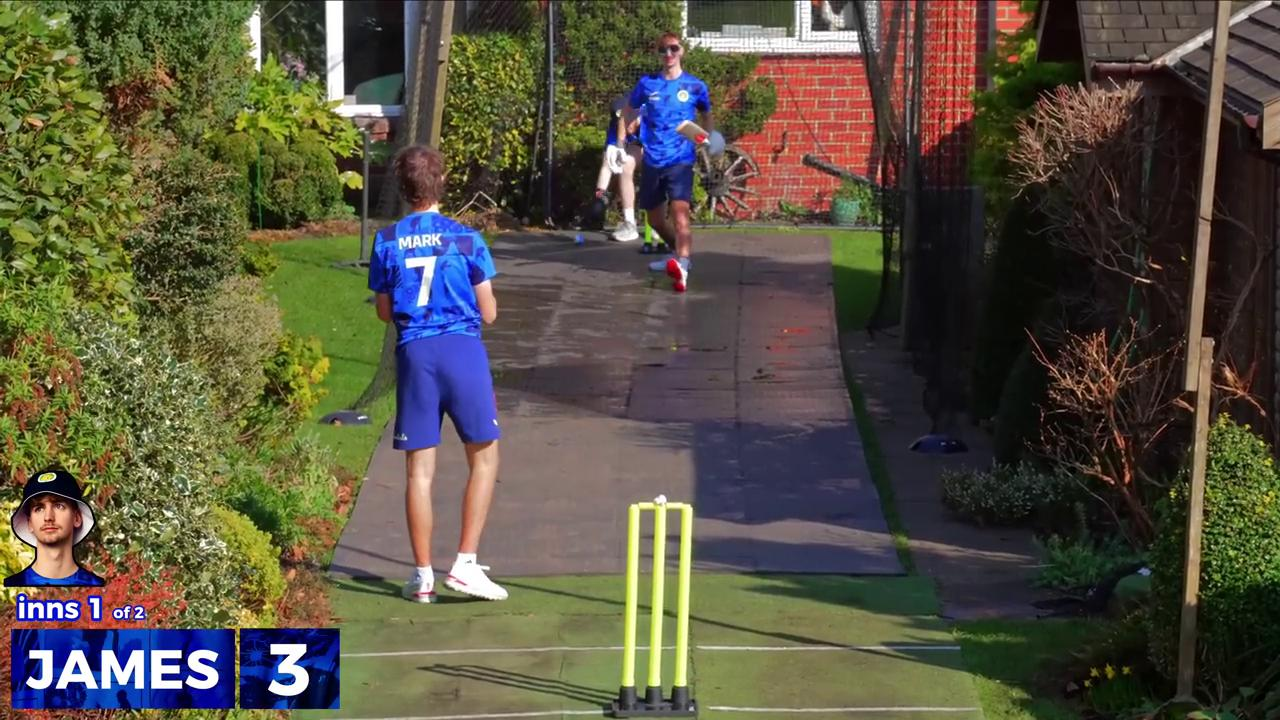ball: (569, 227, 589, 245)
